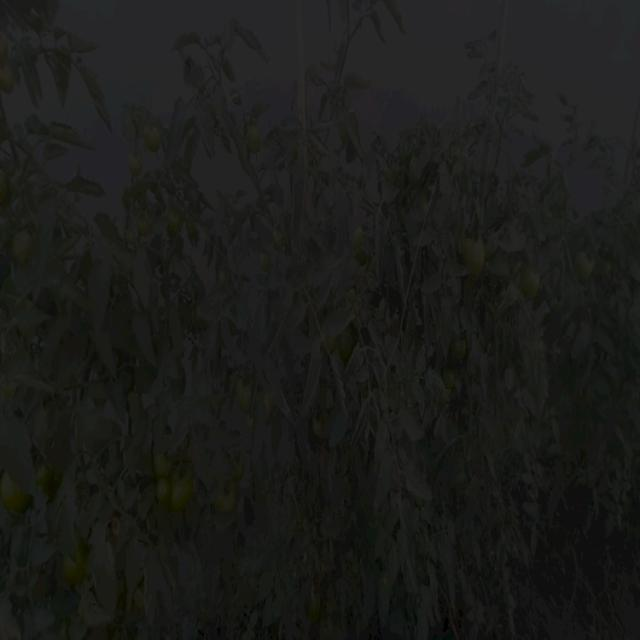tomato: (213, 476, 241, 522), (4, 221, 33, 264), (462, 240, 487, 283), (576, 246, 602, 287), (234, 380, 258, 420), (405, 151, 427, 194), (446, 371, 468, 412), (140, 125, 171, 154), (172, 475, 197, 510), (1, 482, 27, 514), (333, 329, 358, 360), (1, 65, 21, 97), (527, 271, 551, 296), (159, 212, 182, 237), (256, 246, 274, 274), (64, 556, 81, 585), (273, 220, 288, 252), (355, 225, 374, 250), (155, 477, 176, 499), (152, 455, 171, 479), (31, 458, 49, 481), (131, 154, 145, 181), (453, 333, 464, 356), (250, 125, 260, 146)
